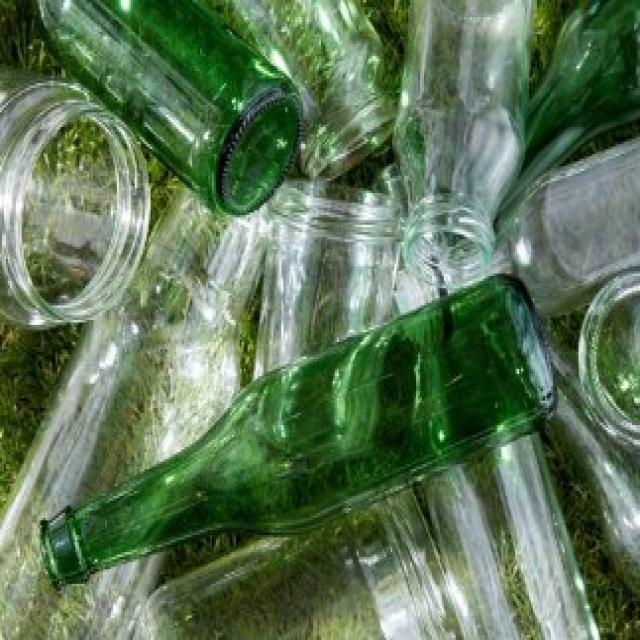electronic: (0, 0, 559, 594)
